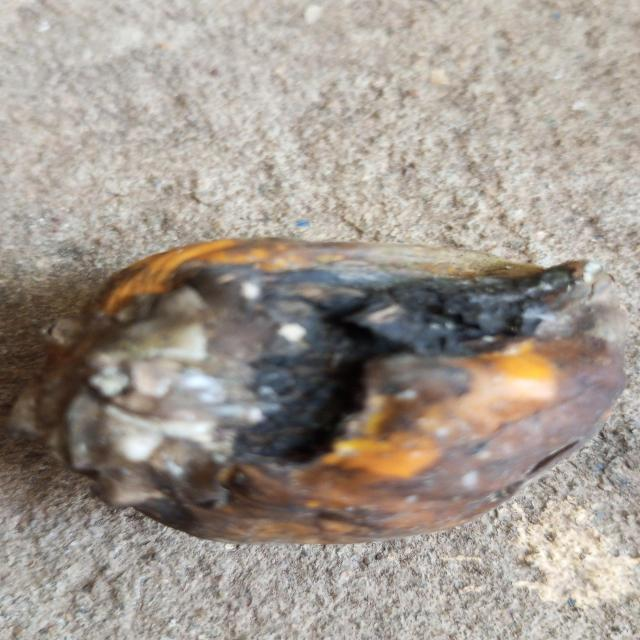damaged: (32, 237, 626, 550)
